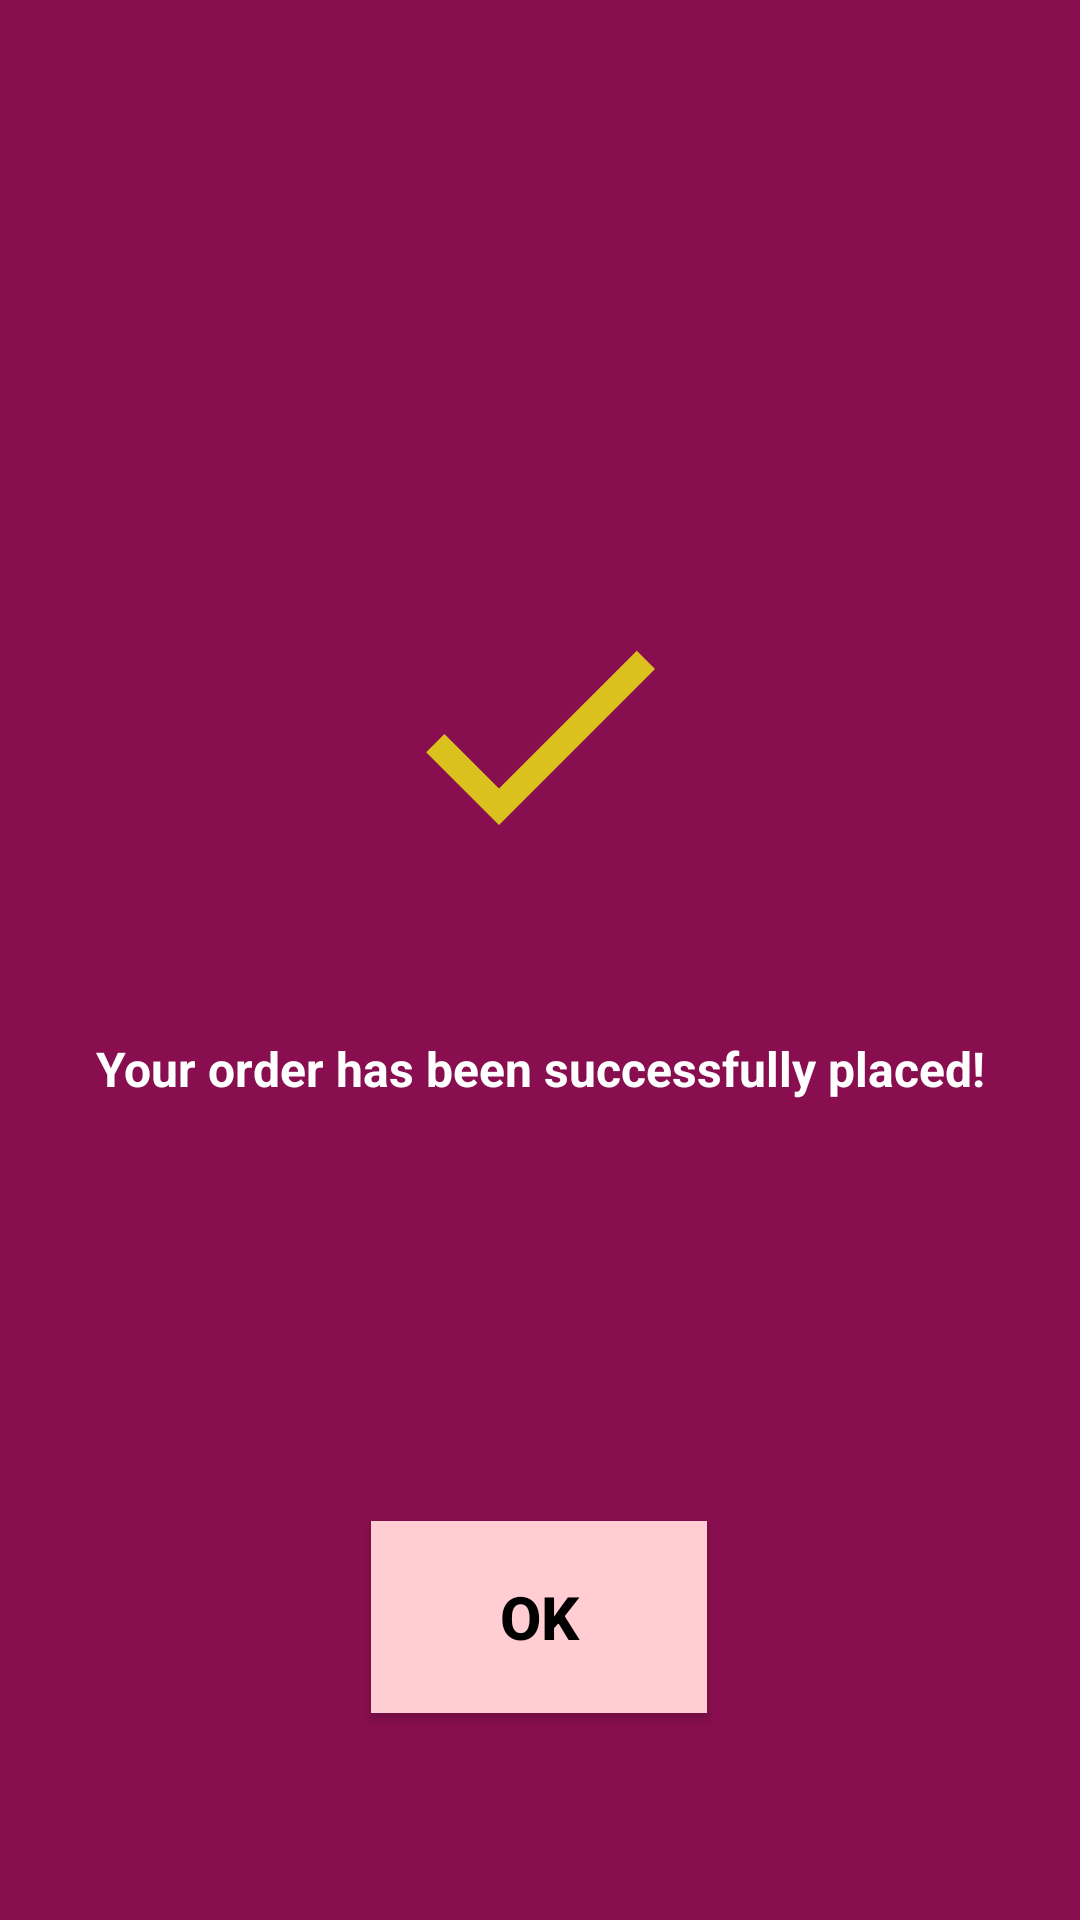

Where to tap for icons on this 1080x1920 app screen, as (x=x, y=y):
done: (x=540, y=738)
